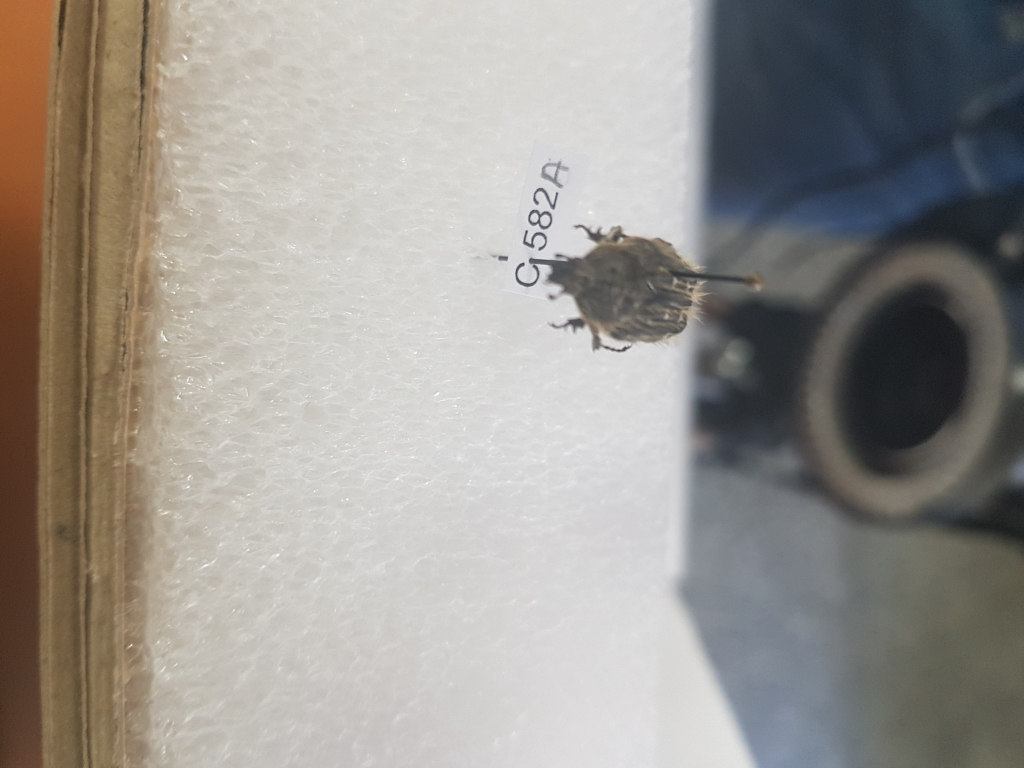Tropinota_hirta: (548, 230, 713, 356)
